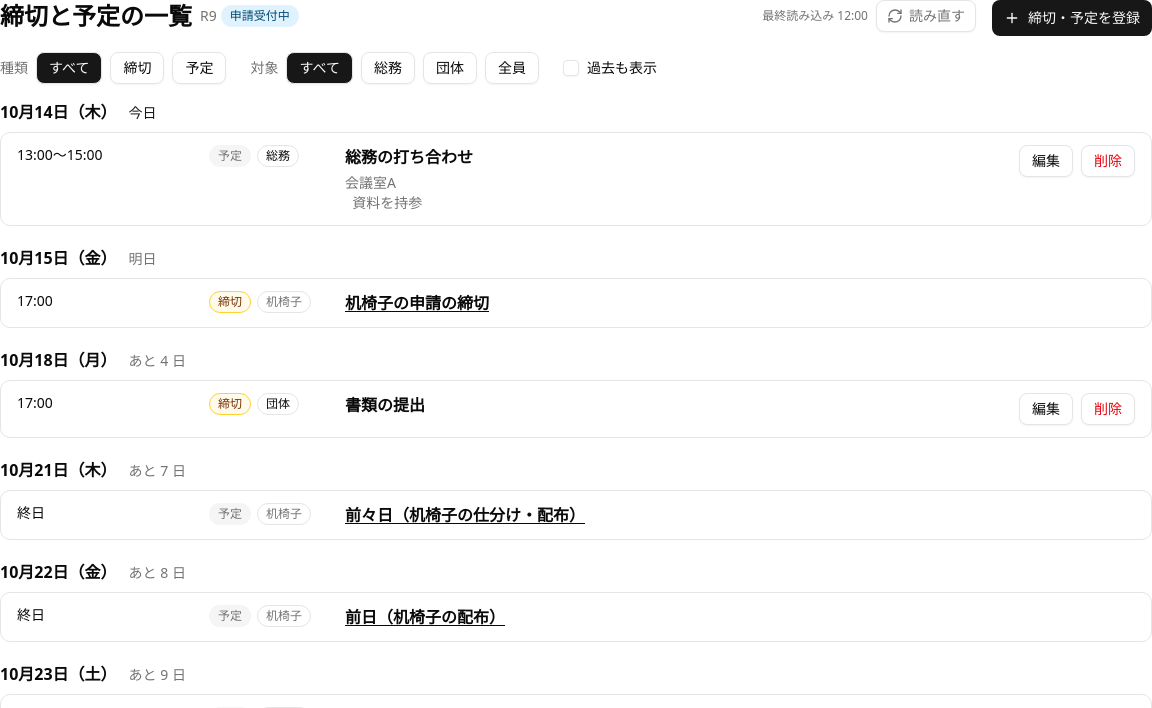
Test case: T18 ダイアログ：登録 › 既定は種類「予定」・対象「総務」（読む人の説明つき）・終日を外す。終日の締切を登録すると、作った id と Asia/Tokyo の 00:00 で insert して閉じ、一覧に出す
Expected: the list item with test id "calendar-item" showing "総務の打ち合わせ 会議室A 資料を持参 編集 削除" is shown, [345,145,1135,212]
Click the button with test id "calendar-add" at x=1072, y=18, box [992,0,1151,36]
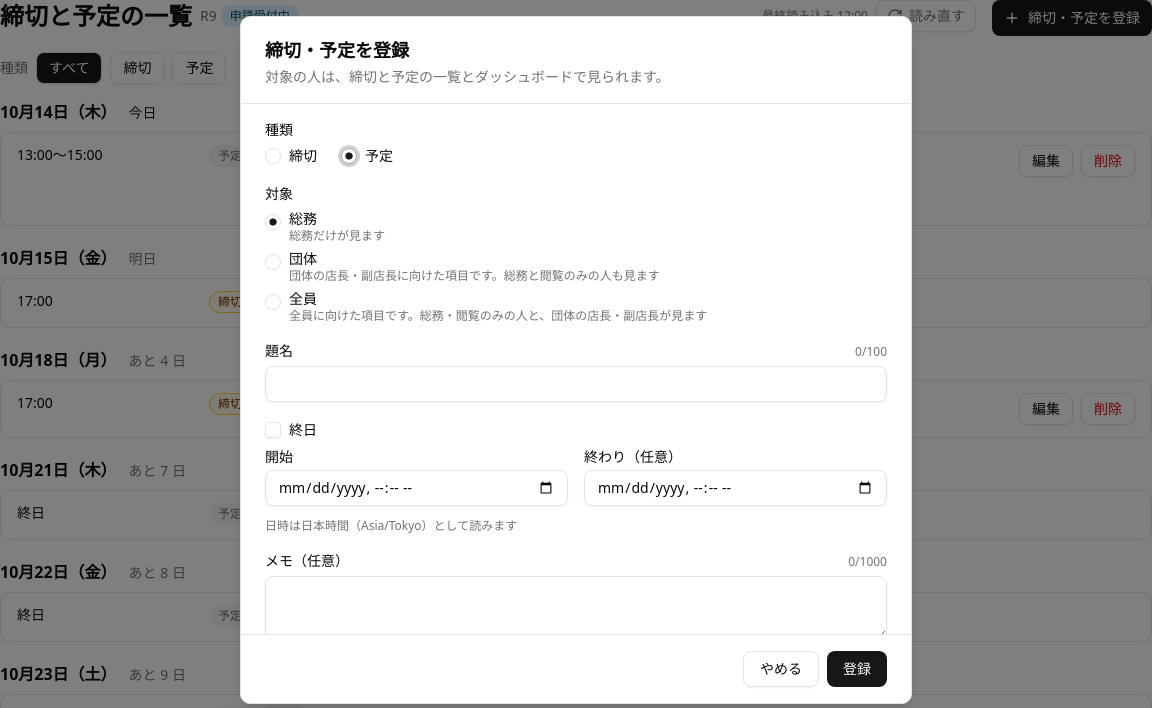
Expected: the heading "締切・予定を登録" is shown, [265,38,409,62]
Expected: the text "総務だけが見ます" is shown, [289,228,385,244]
Expected: the text "団体の店長・副店長に向けた項目です。総務と閲覧のみの人も見ます" is shown, [289,268,660,284]
Click the 1st radio button named "締切" at x=273, y=156, box [265,148,281,164]
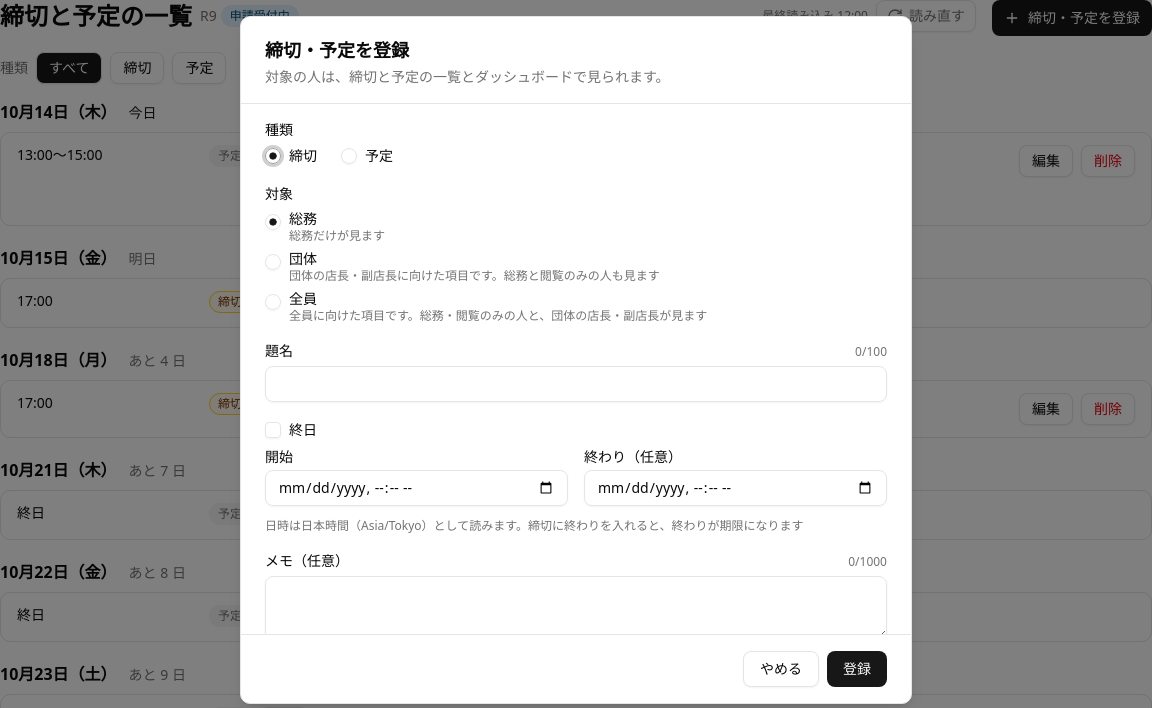
Click the radio button named "全員" next to "全員に向けた項目です。総務・閲覧のみの人と、団体の店長・副店長が見ます" at x=273, y=302, box [265,294,281,310]
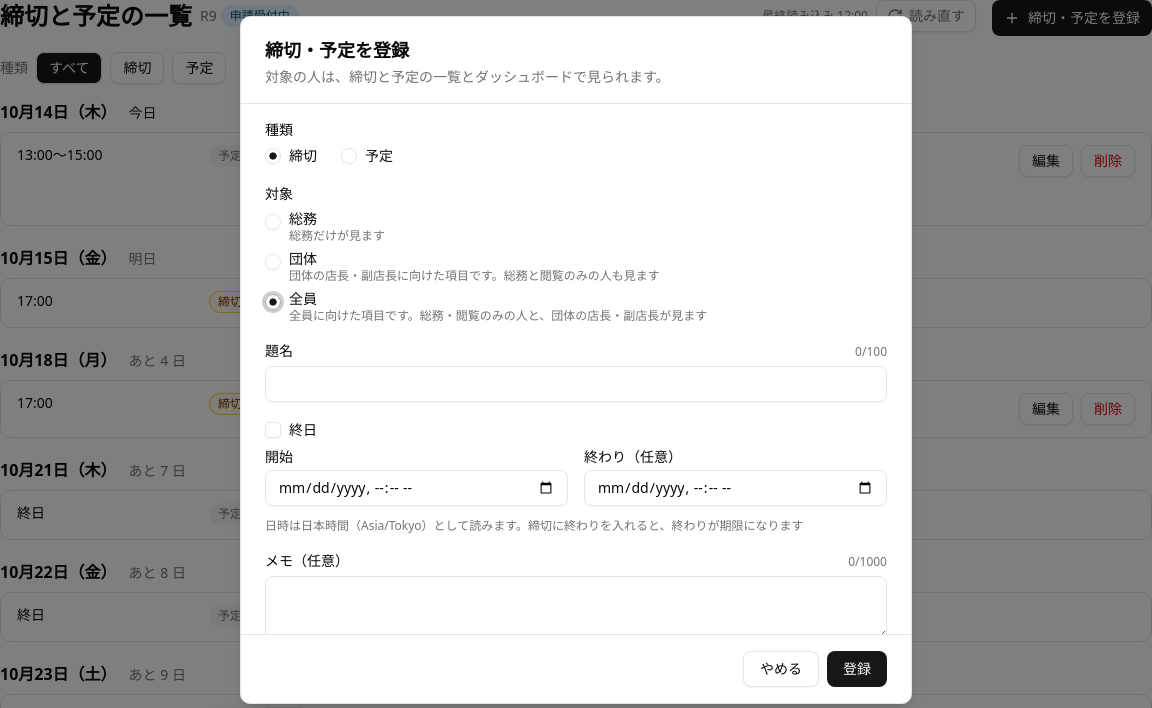
Type "　書類の提出 " into the field labelled "題名" at x=576, y=384, box [265,366,887,402]
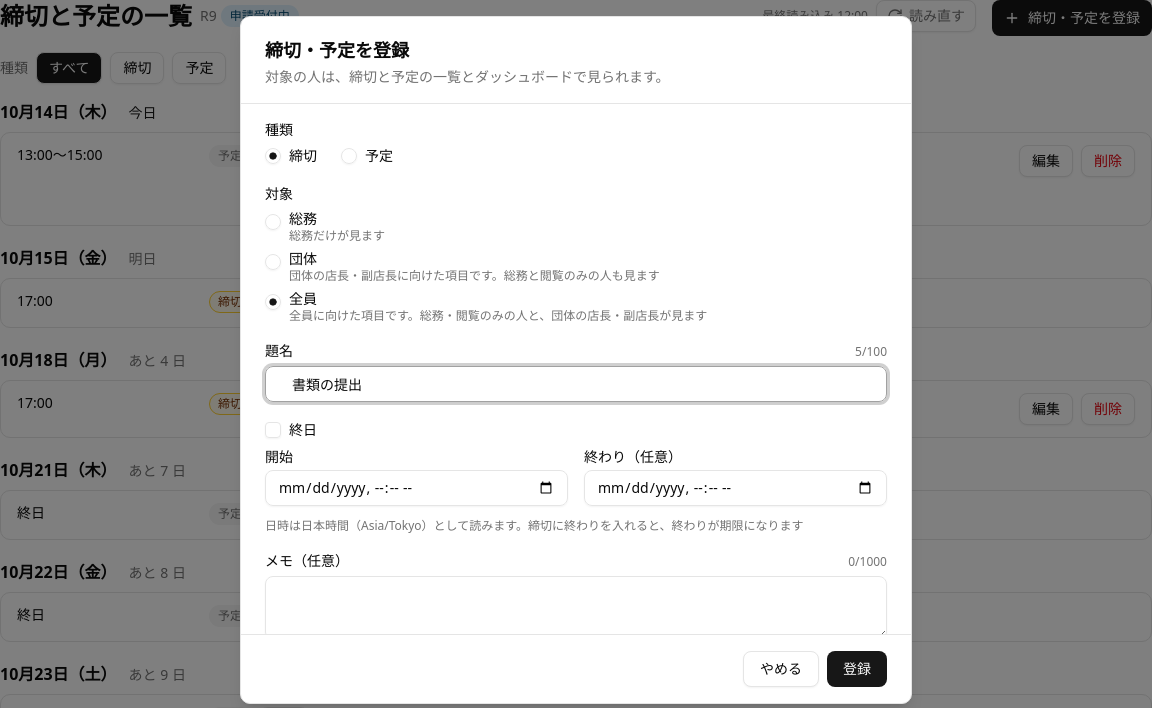
Expected: the text with test id "event-title-count" reads "5/100", [855,344,887,360]
Click the checkbox with test id "event-all-day" at x=273, y=430, box [265,422,281,438]
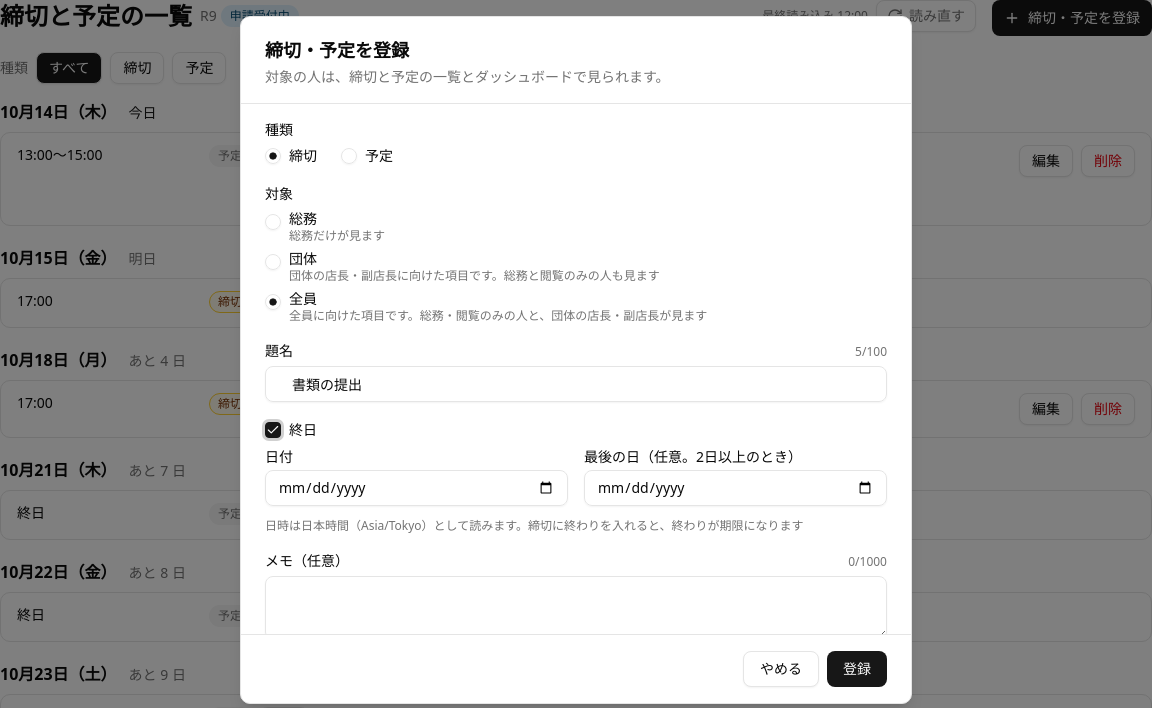
Type "2027-10-15" into the date field with test id "event-start-date" at x=416, y=488, box [265,470,568,506]
Click the button with test id "event-submit" at x=857, y=669, box [827,651,887,687]
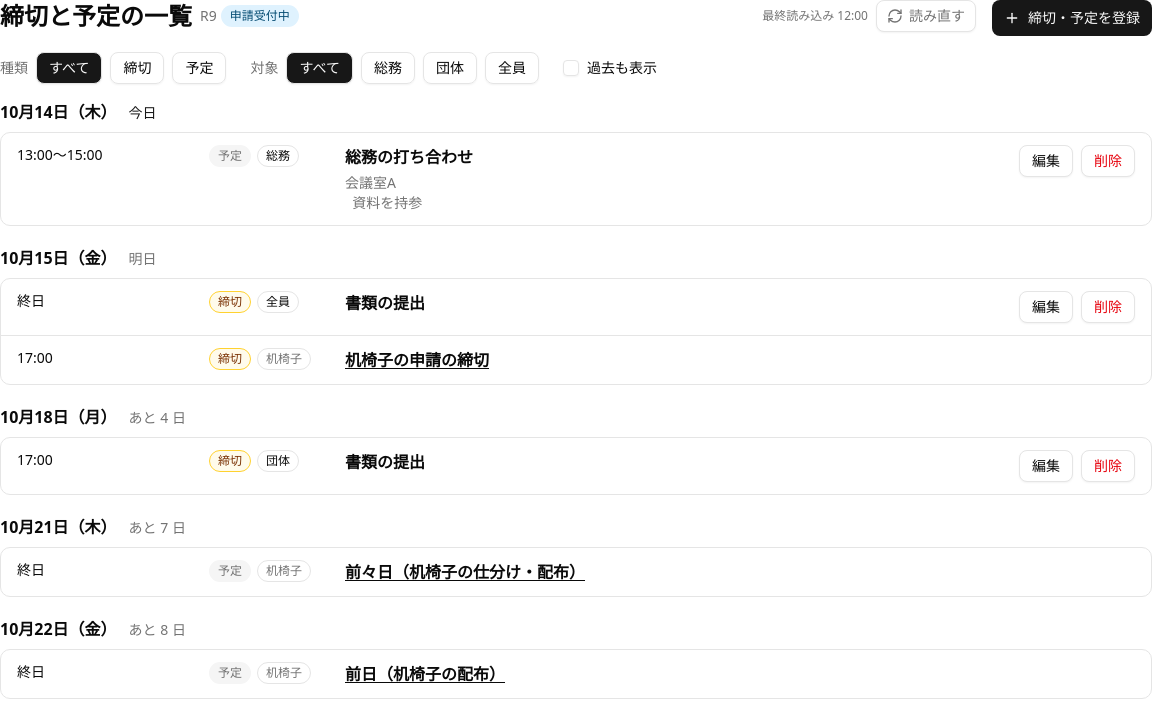
Expected: the element with test id "calendar-item-time" below "10月15日（金）" reads "終日", [17,291,45,310]
Expected: the element with test id "event-form" is gone
